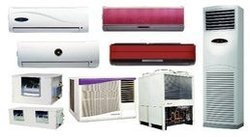AC: (203, 7, 243, 125), (103, 7, 185, 30), (110, 44, 194, 65), (8, 10, 88, 31), (19, 46, 99, 66)
